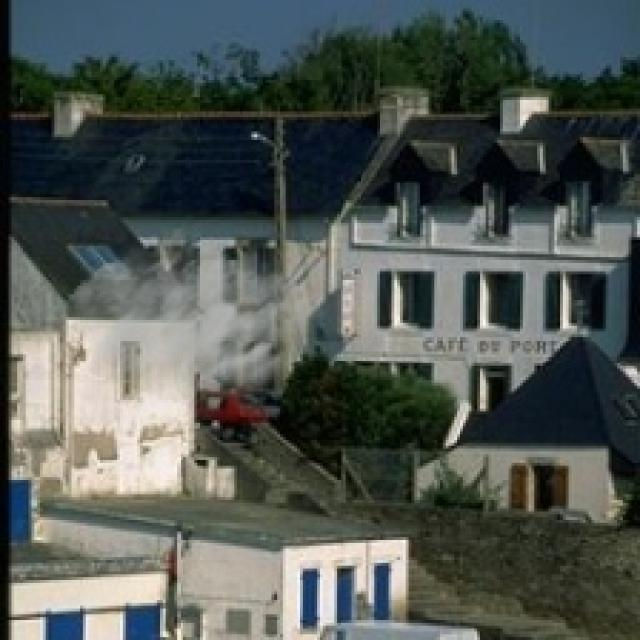smoke: (52, 225, 334, 426)
